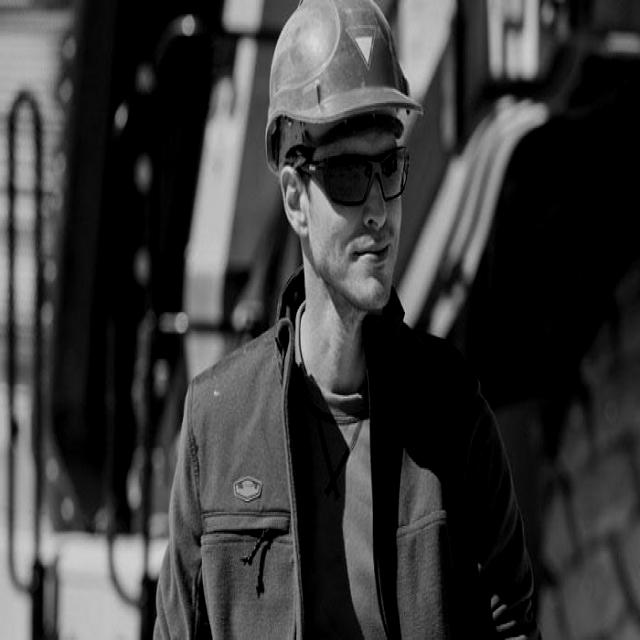face_nomask: (306, 119, 417, 331)
glasses: (315, 140, 415, 214)
head_helmet: (255, 1, 405, 175)
person: (159, 6, 542, 640)
